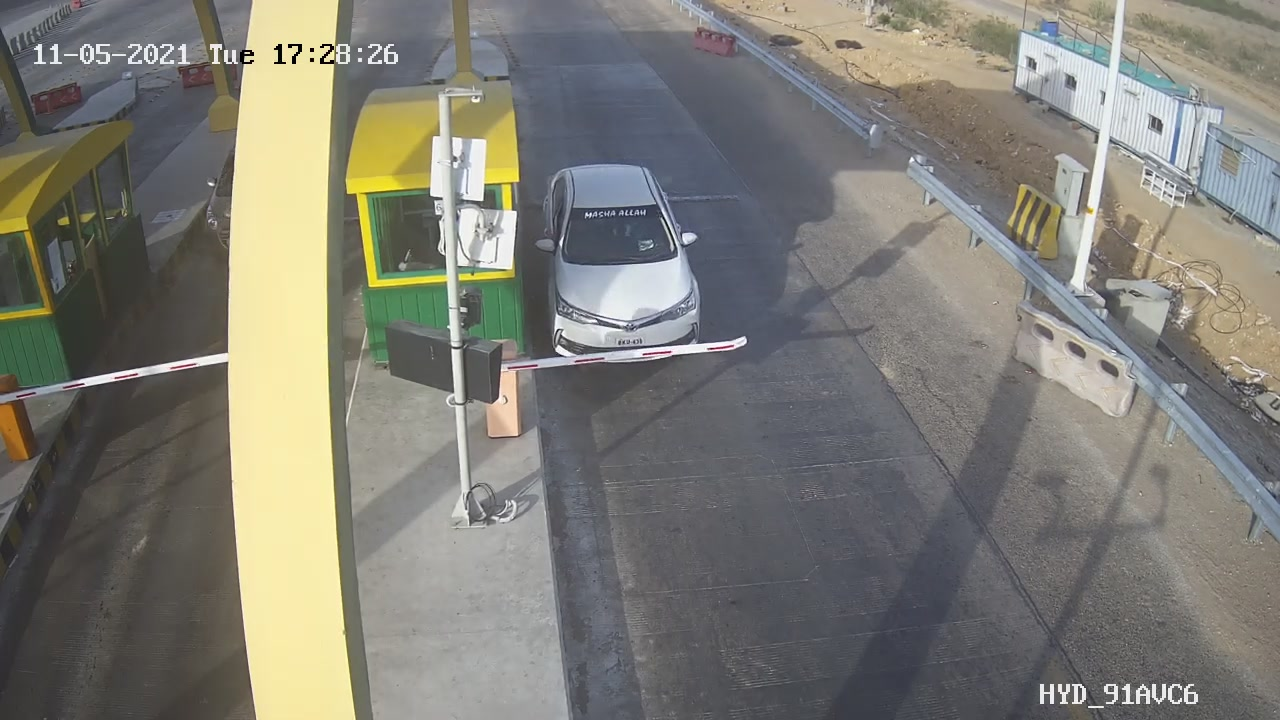F1: (518, 146, 726, 388)
